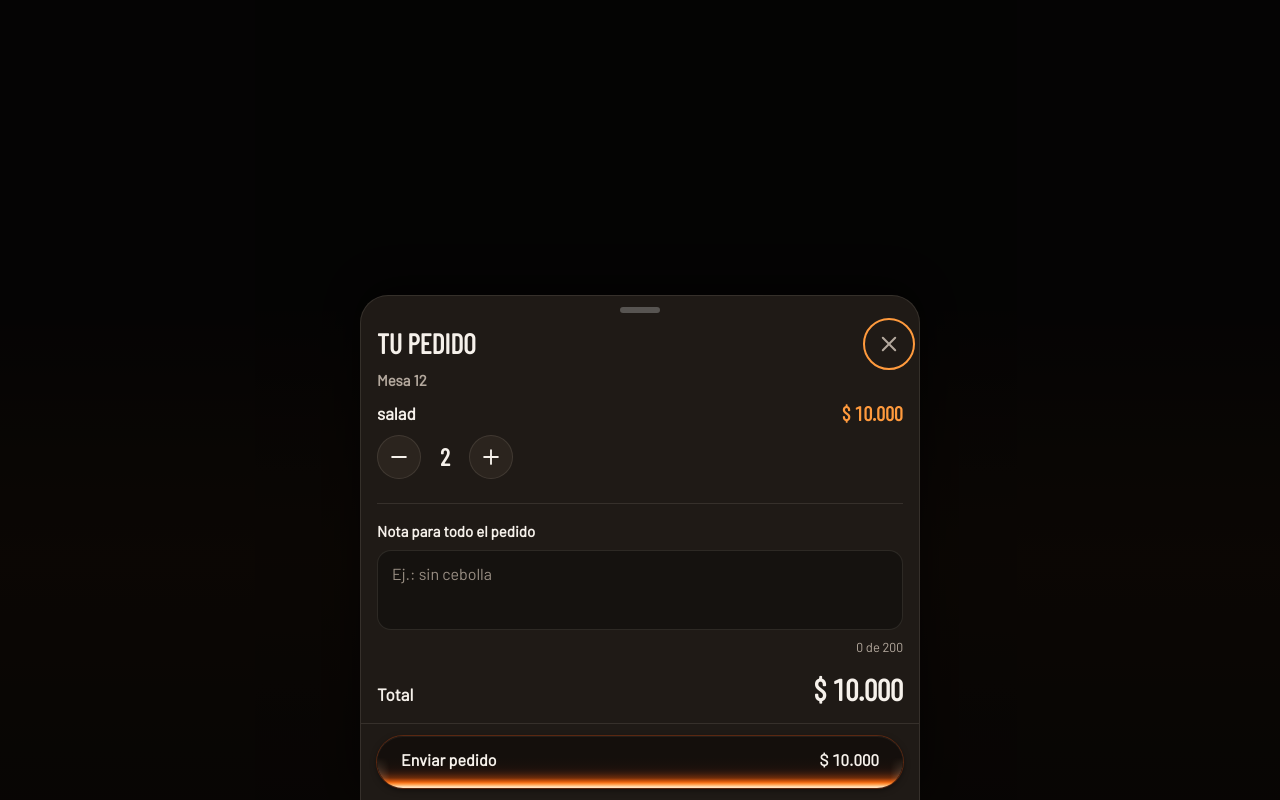
Scenario: CartSheet: resumen y envío del pedido (RF2, RF20-RF22, RF24-RF27, RF44; plan §5.4) › el resultado es desconocido (RF26, CL12) › explica el error, bloquea la edición y ofrece "Reintentar" y "Editar pedido"
Step 1. Click the button "Enviar pedido $ 10.000" → {"x": 449, "y": 760}, box [377,736,903,788]
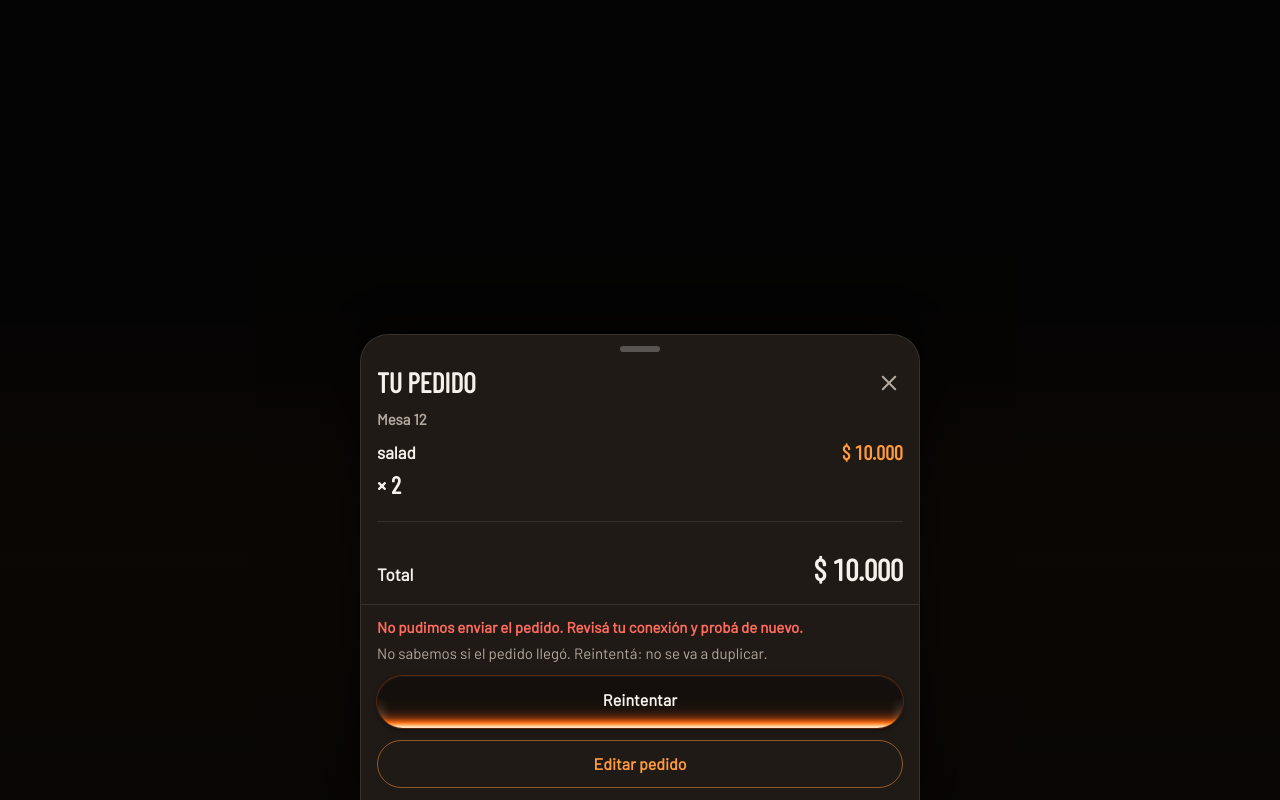
Expected: the button "Reintentar" is shown, [377,676,903,728]
Expected: the message shows "No pudimos enviar el pedido. Revisá tu conexión y probá de nuevo.", [377,618,803,636]
Expected: the message shows "No sabemos si el pedido llegó. Reintentá: no se va a duplicar.", [377,644,768,662]
